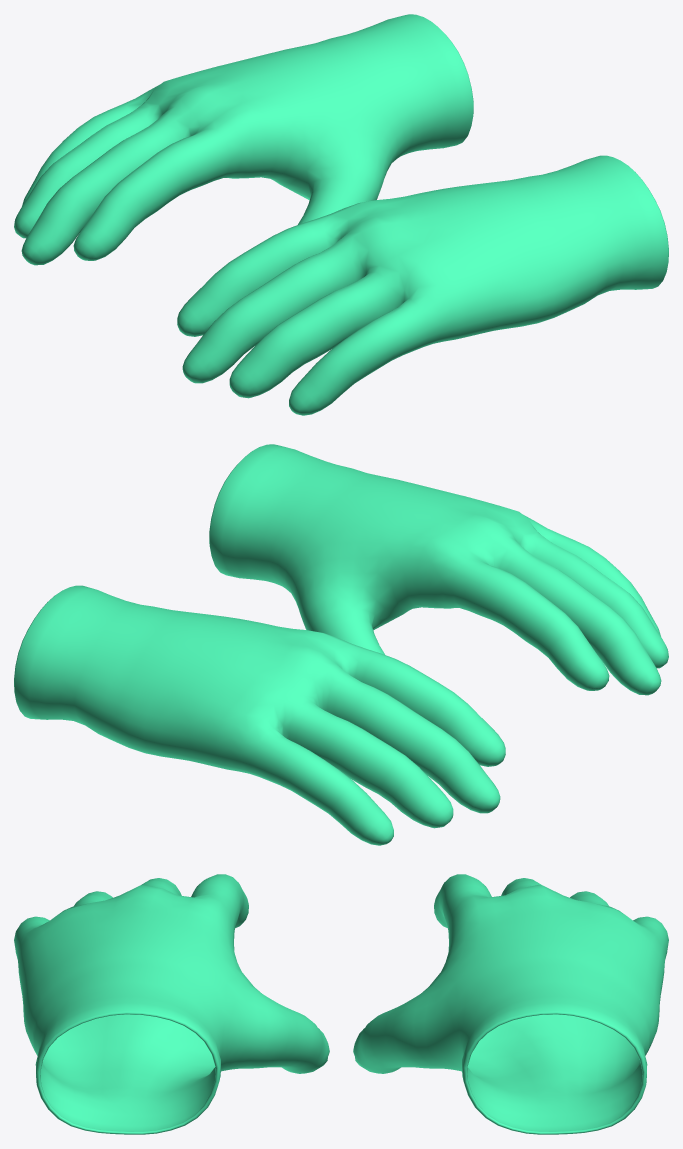
File: guantes.fbx
The picture shows the model from 3 angles, top to bottom: view 1: azimuth 30°, elevation 25°; view 2: azimuth 150°, elevation 25°; view 3: azimuth 270°, elevation 25°; orthographic projection. The views are drawn at different scales.
Parts seen in each view (by area): view 1: Gloves_obj; view 2: Gloves_obj; view 3: Gloves_obj.
Part boxes in pixels (box(x1,y1,x2,y2)): Gloves_obj: box(14, 14, 668, 415); Gloves_obj: box(14, 444, 668, 845); Gloves_obj: box(14, 874, 668, 1134).
Size of the model in its own units: 289 by 105 by 352.
